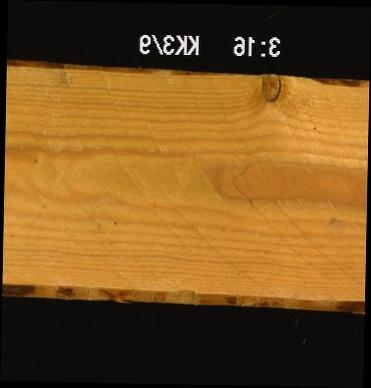edge_knot: (260, 73, 283, 102)
wave: (4, 285, 364, 309), (291, 73, 368, 93)
